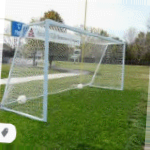goals: (1, 17, 126, 124)
